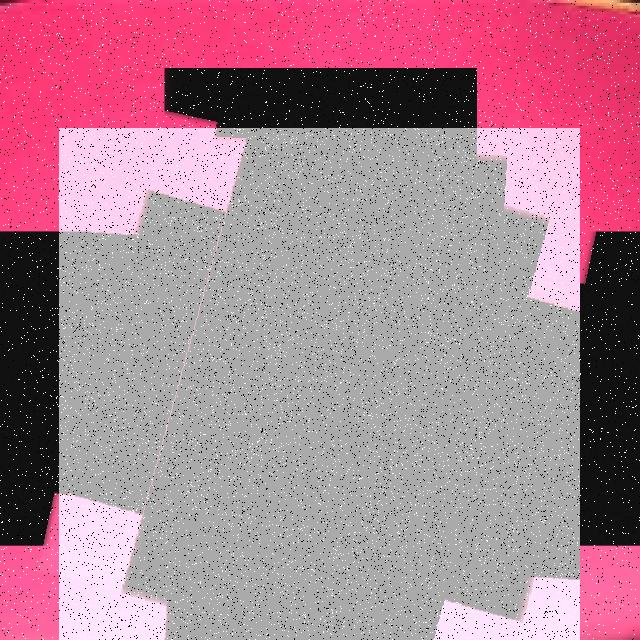dua ribu rupiah: (59, 128, 580, 640)
